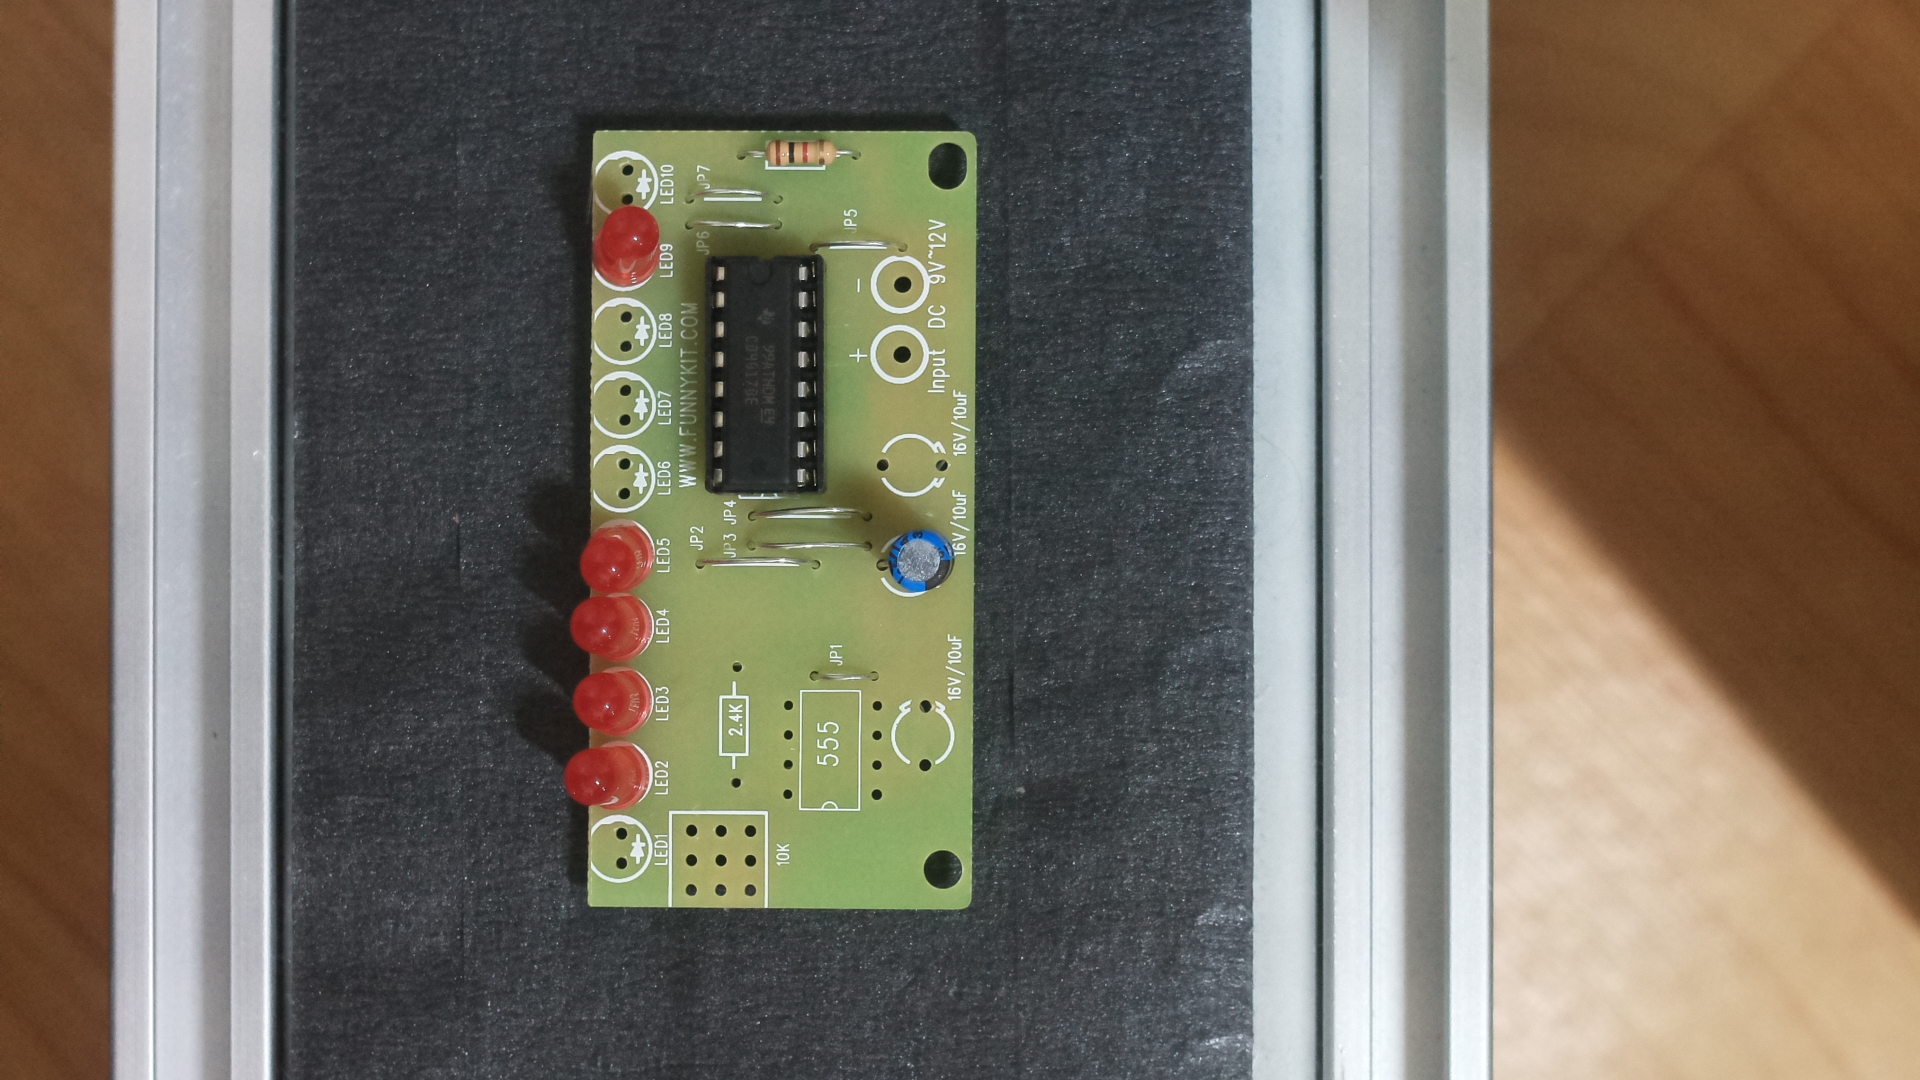B_Missing_part: (558, 83, 1001, 923)
